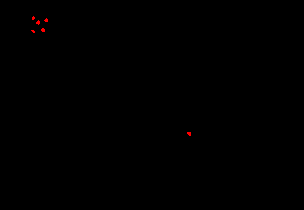Target: (36, 20, 40, 25), (44, 18, 48, 22), (41, 28, 45, 32), (187, 132, 191, 136), (32, 16, 35, 20), (31, 30, 35, 33)
